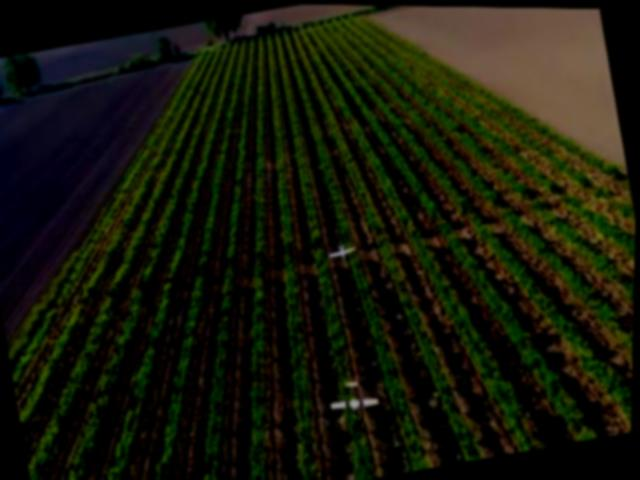uav: (323, 368, 388, 416), (326, 235, 362, 263)
